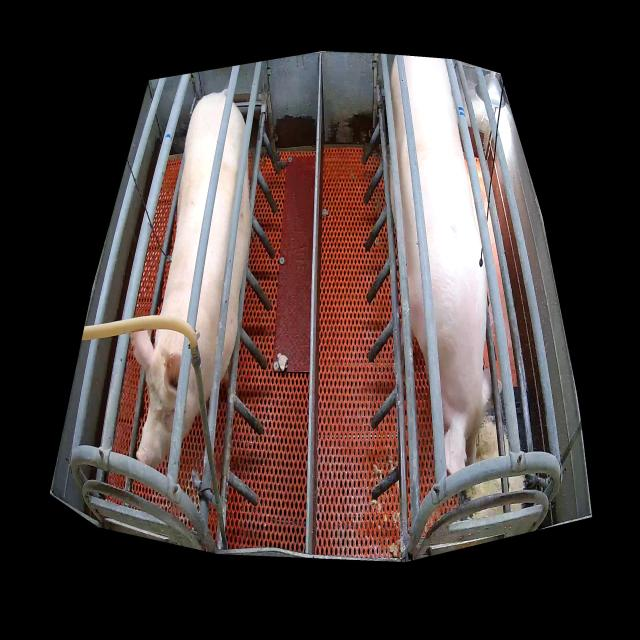pig: (130, 92, 250, 469), (391, 56, 494, 474)
